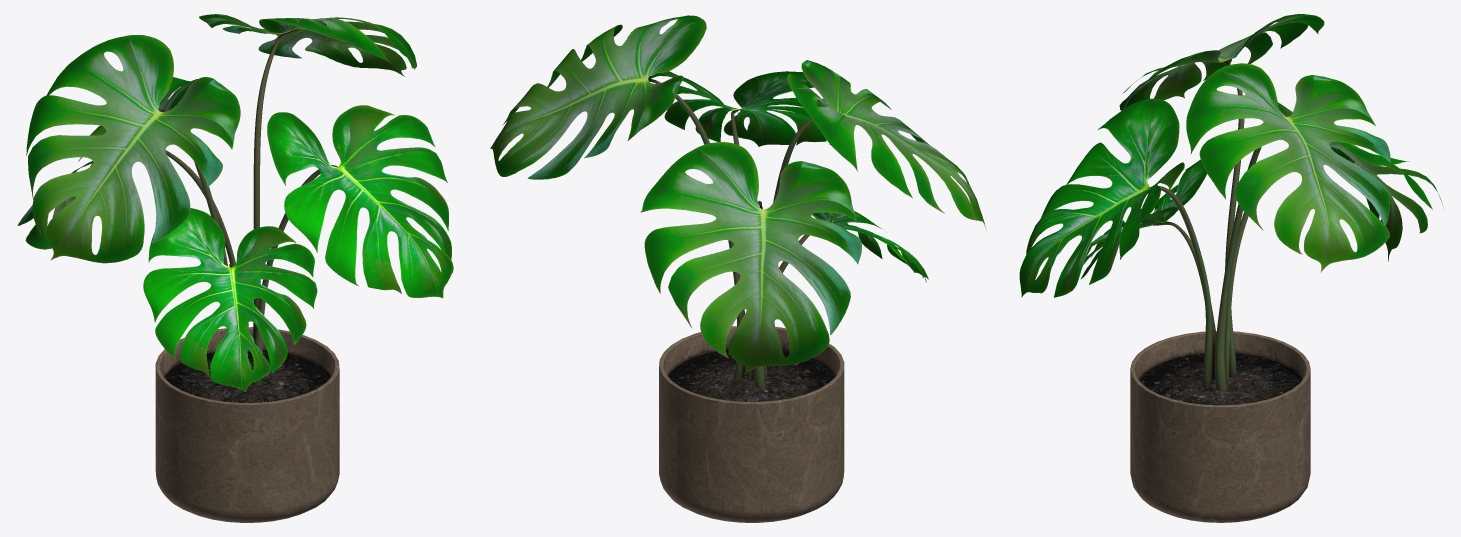
File: Plant1.fbx
3 views of the same model, side by side, from view 1: azimuth 30°, elevation 25°; view 2: azimuth 150°, elevation 25°; view 3: azimuth 270°, elevation 25° (orthographic). The views are drawn at different scales.
Parts seen in each view (by area): view 1: Plant1; view 2: Plant1; view 3: Plant1.
Boxes of the visible parts, box(x1,y1,x2,y2) form: Plant1: box(17, 14, 453, 522); Plant1: box(490, 15, 986, 522); Plant1: box(1019, 14, 1443, 522).
Bounding box in the file's own units: 86.33 × 87.51 × 76.23.
Materials: 2 (2 with a texture image).
